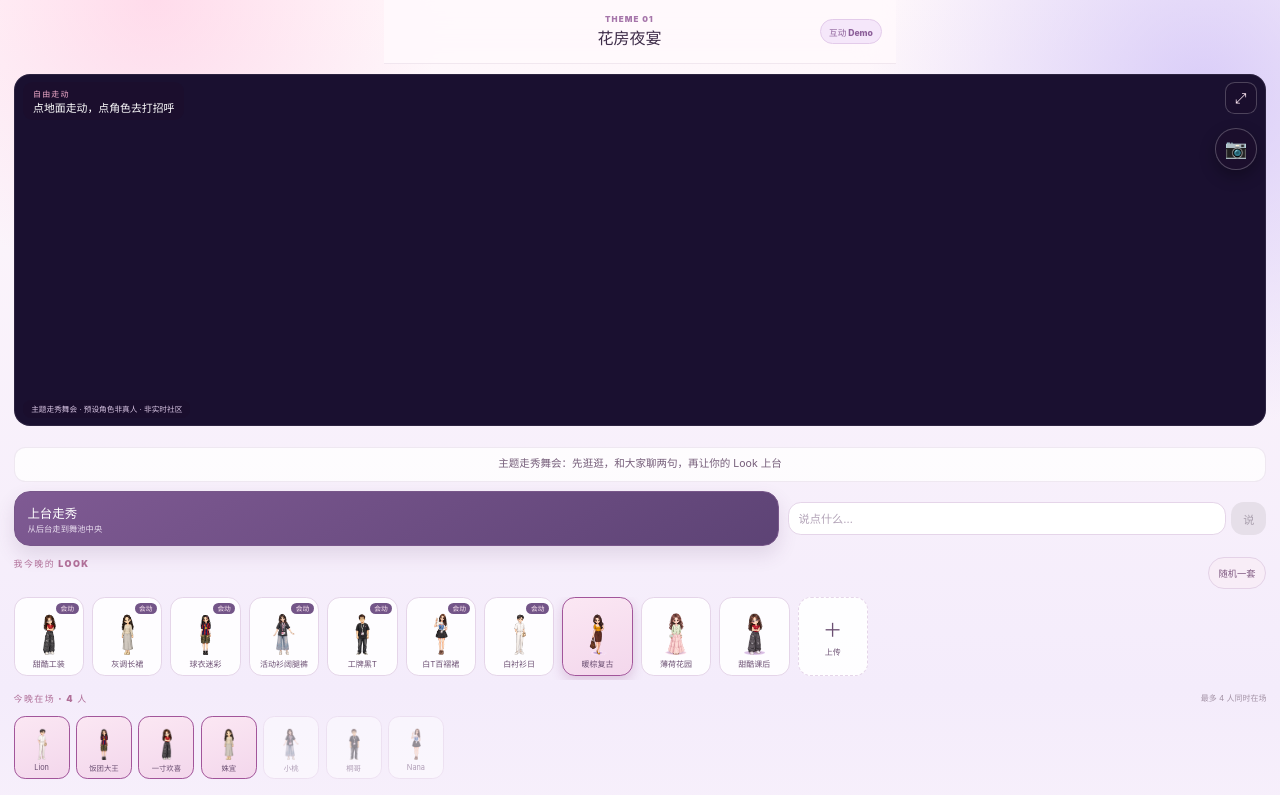
Test: CommunityScreen › shows a retry state when the card cannot be drawn instead of reporting success
The image size is (1280, 795).
Click the button named "拍合影": x=1236, y=149 1215,128 -> 1257,170
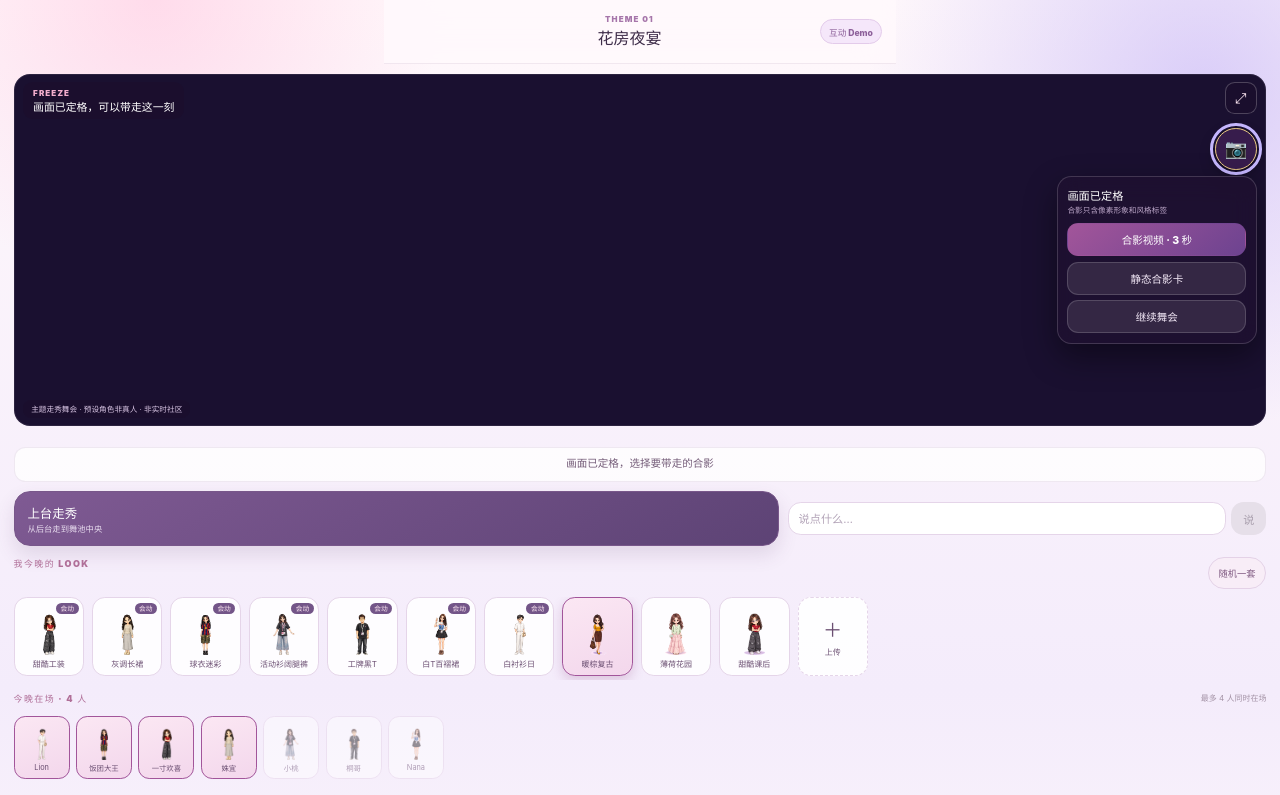
Click the button "静态合影卡": x=1157, y=278 1067,262 -> 1246,295
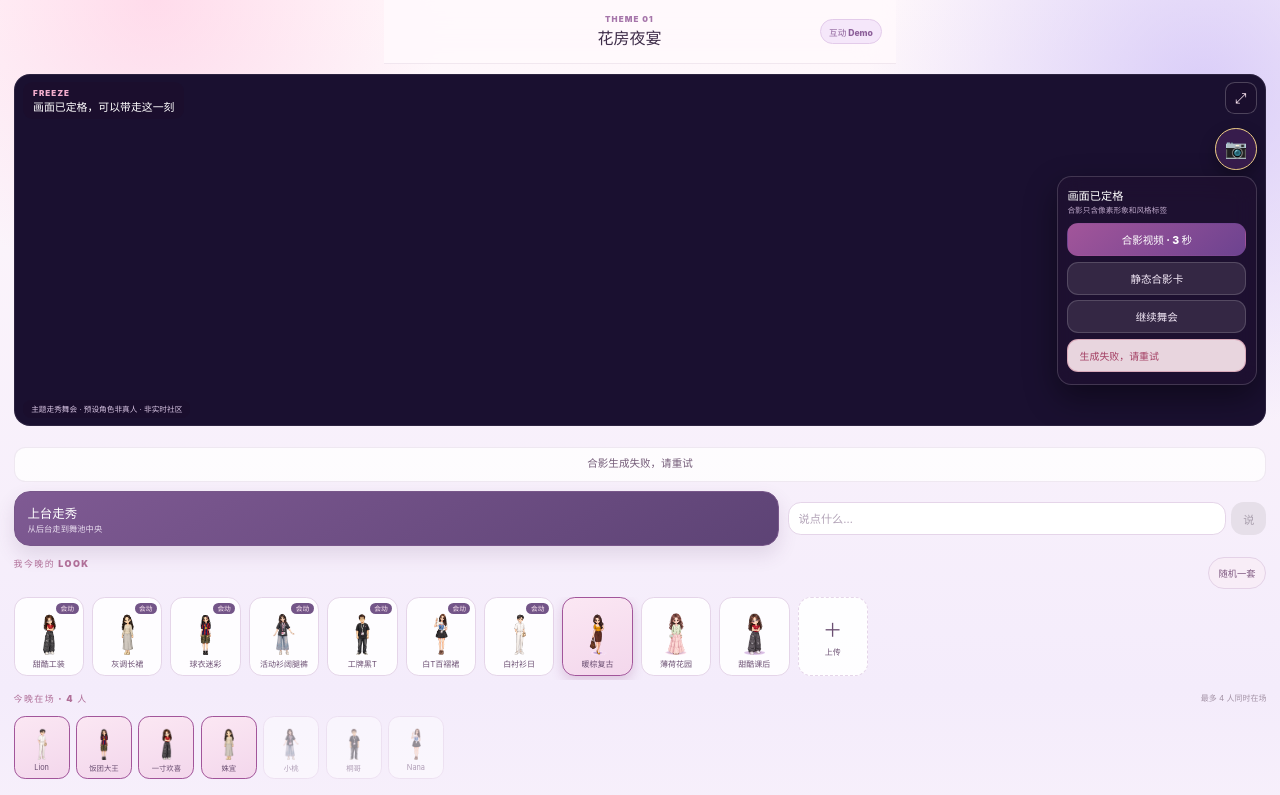
Now the message "合影生成失败，请重试" is shown, box 14,447 -> 1266,482
Now the message "生成失败，请重试" is shown, box 1067,339 -> 1246,372
